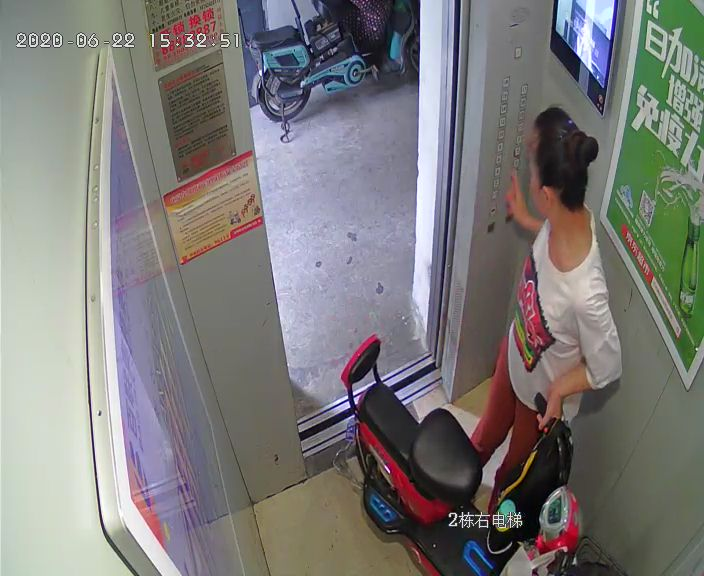Electric-bicycle: (333, 332, 620, 576), (239, 2, 418, 143)
